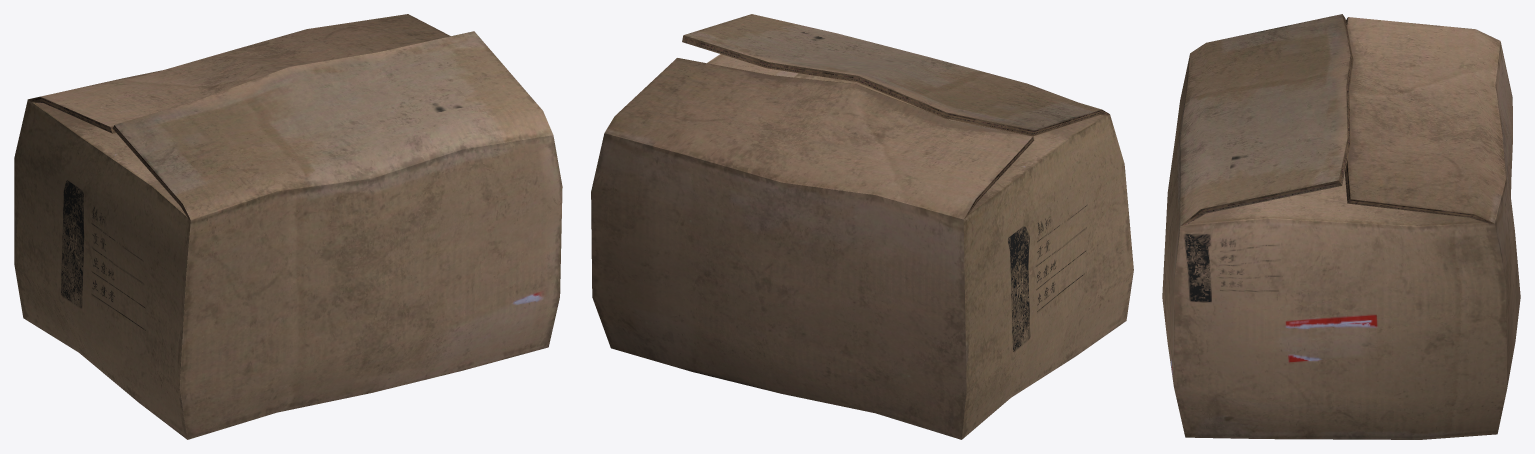
Rendered from Cardboard_B.fbx.
3 renders of one model, left to right at view 1: azimuth 30°, elevation 25°; view 2: azimuth 150°, elevation 25°; view 3: azimuth 270°, elevation 25°, orthographic.
Visible parts, largest first — view 1: Cardboard_B; view 2: Cardboard_B; view 3: Cardboard_B.
Boxes of the visible parts, x1=… form: Cardboard_B: x1=14, y1=14, x2=562, y2=439; Cardboard_B: x1=591, y1=14, x2=1133, y2=439; Cardboard_B: x1=1162, y1=14, x2=1520, y2=439.
Size of the model in its own units: 54.15 by 34.68 by 42.26.
Materials: 1 (1 with a texture image).
